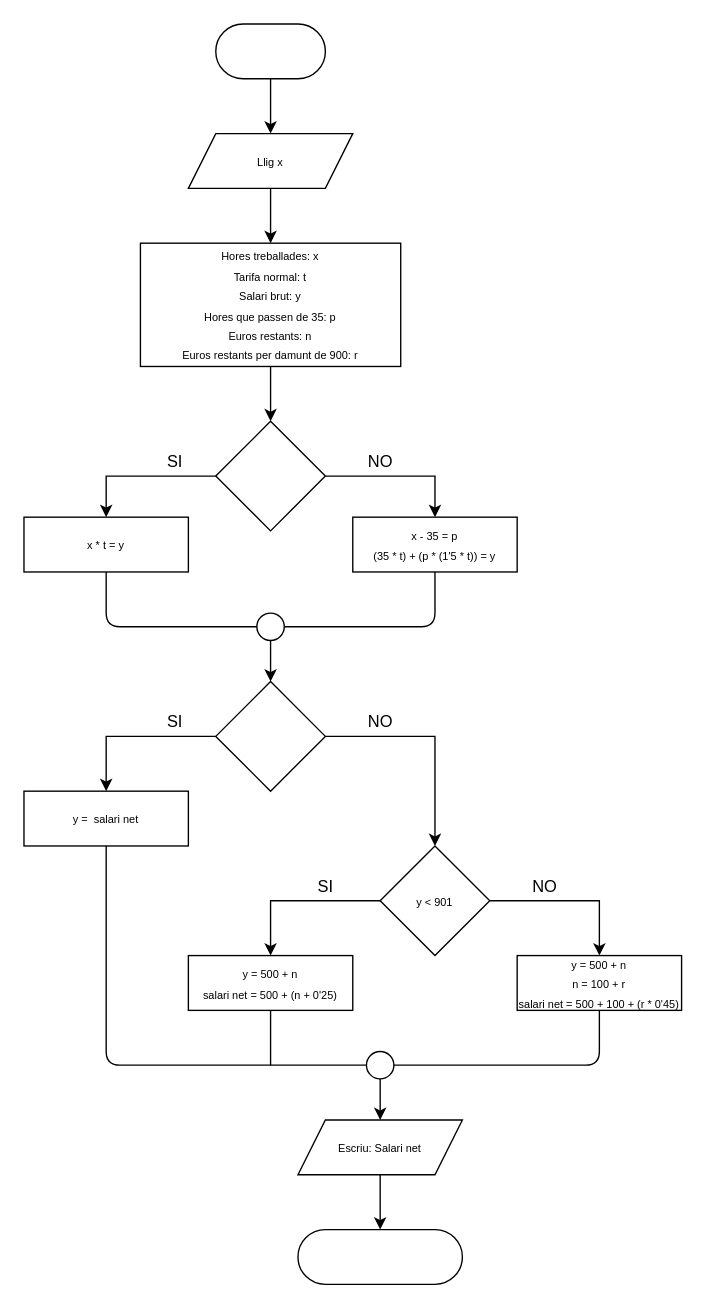
This 706x1308 diagram has some shape labels left out. The box of each missing label's shape, as (x1, y1, x2, y2) in pixels:
Fi: (297, 1228, 462, 1284)
Inici: (214, 23, 325, 79)
x < 36: (214, 420, 325, 531)
y < 501: (214, 680, 325, 791)
